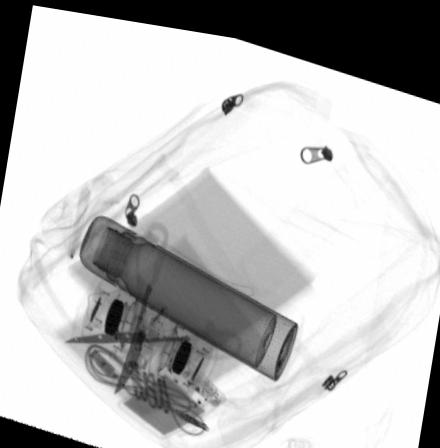Powerbank: (116, 345, 228, 439)
Scissors: (64, 217, 243, 394)
